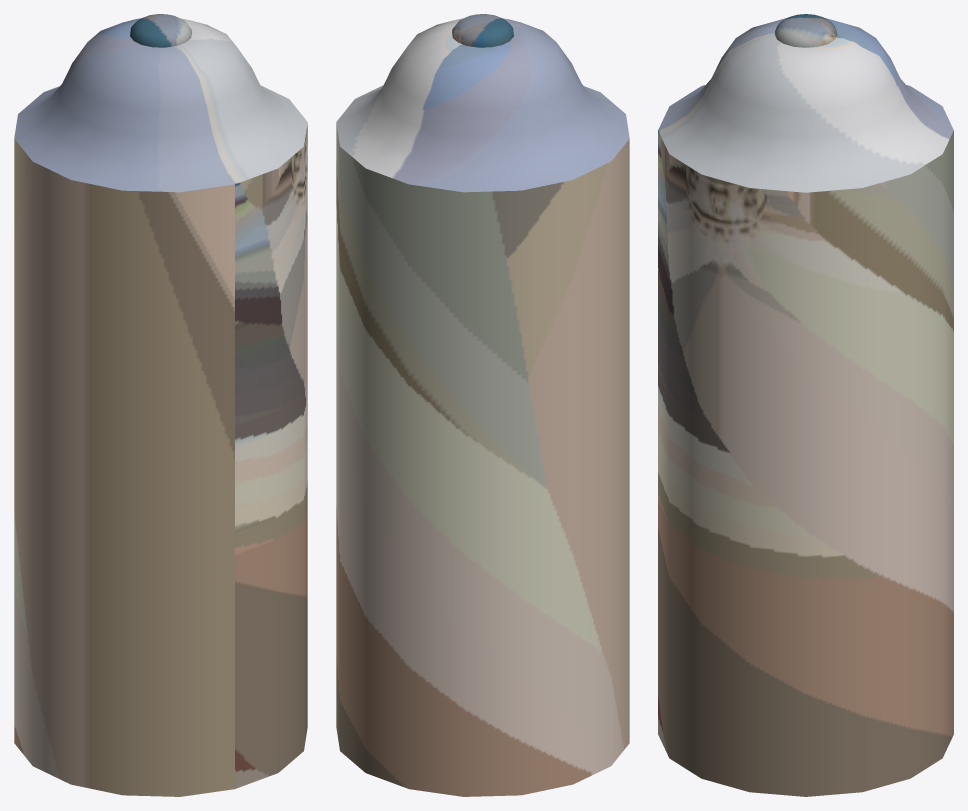
Rendered from Fence_Pillar04.FBX.
The picture shows the model from 3 angles, left to right: view 1: azimuth 30°, elevation 25°; view 2: azimuth 150°, elevation 25°; view 3: azimuth 270°, elevation 25°; orthographic projection.
Parts seen in each view (by area): view 1: Cylinder004; view 2: Cylinder004; view 3: Cylinder004.
Part boxes in pixels (x1,y1,x2,y2): Cylinder004: (14,14,307,796); Cylinder004: (336,14,629,796); Cylinder004: (658,14,953,796).
Size of the model in its own units: 51.36 by 137 by 51.36.
